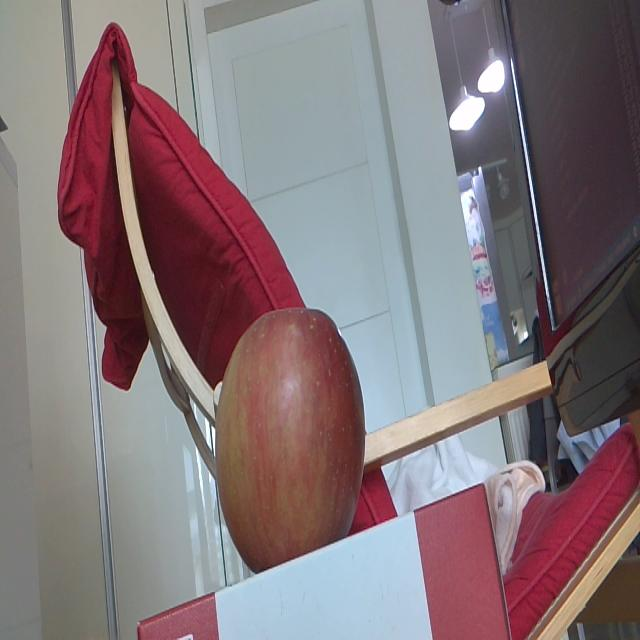apple: (216, 310, 364, 537)
